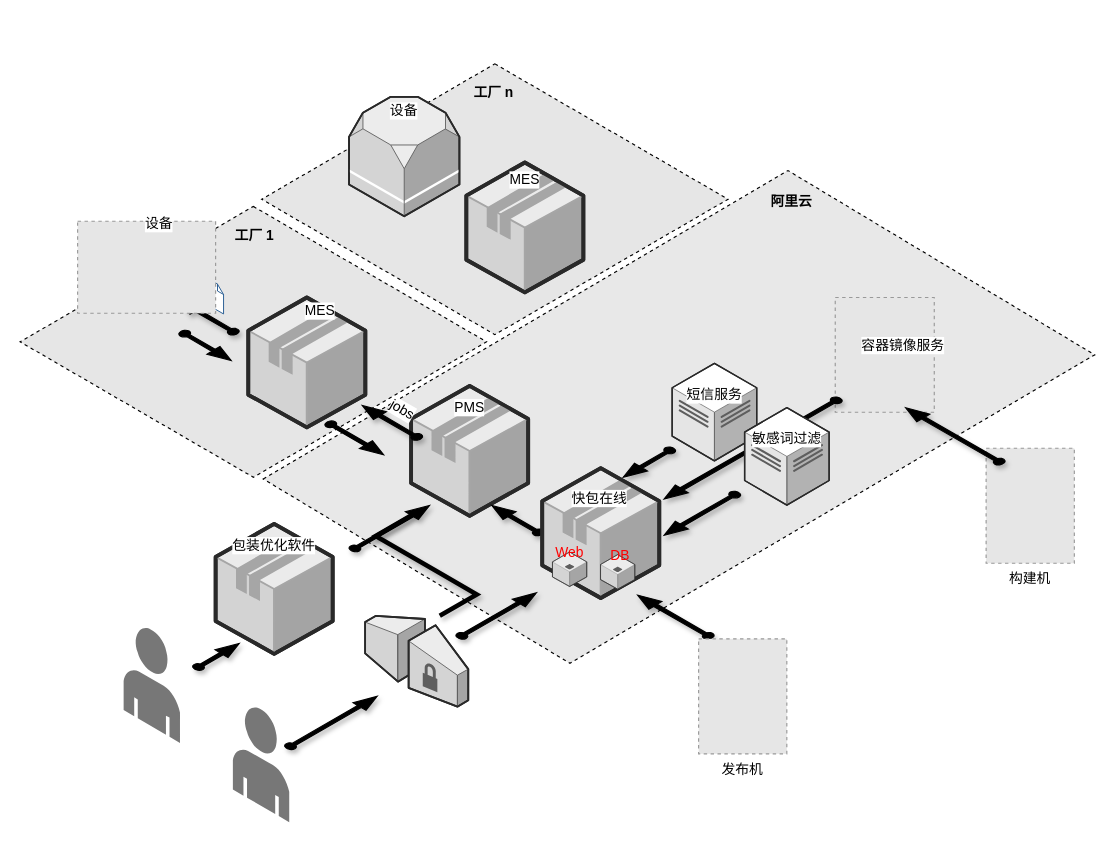
Some shapes in this 1116 by 842 pixel diagram are drawn without their labels. Grey dashed boxes stand in for pictures. Each missing label, with the centre of its shape:
"SSH" goes at pixel 676 618.
"包裹列表" goes at pixel 389 529.
